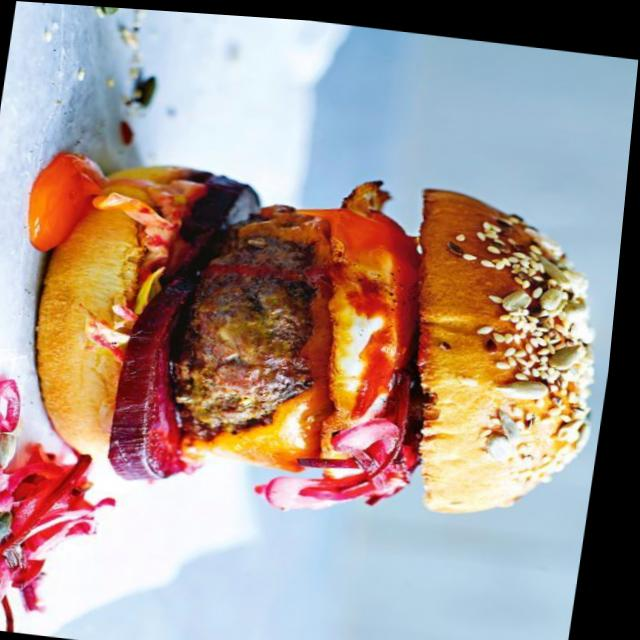burger: (24, 141, 630, 519)
